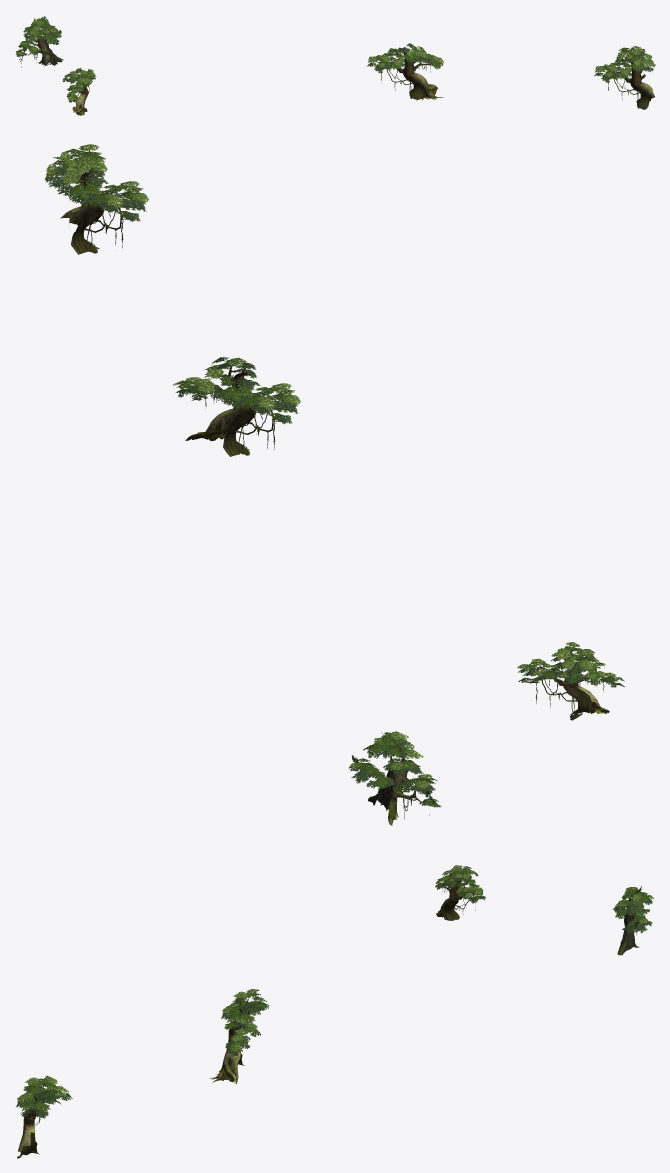
File: S_Tree_Green129_2.FBX
3 views of the same model, one above another, from view 1: azimuth 30°, elevation 25°; view 2: azimuth 150°, elevation 25°; view 3: azimuth 270°, elevation 25° (orthographic). The views are drawn at different scales.
Parts seen in each view (by area): view 1: S_Tree_Green129_001, S_Tree_Green132_001, S_Tree_Green130_001, S_Tree_Green129_002; view 2: S_Tree_Green129_001, S_Tree_Green132_001, S_Tree_Green130_001, S_Tree_Green129_002; view 3: S_Tree_Green129_001, S_Tree_Green132_001, S_Tree_Green129_002, S_Tree_Green130_001.
Part boxes in pixels (x1,y1,x2,y2): S_Tree_Green129_001: [367, 43, 443, 100]; S_Tree_Green132_001: [594, 46, 655, 109]; S_Tree_Green130_001: [15, 16, 63, 67]; S_Tree_Green129_002: [62, 68, 96, 115]; S_Tree_Green129_001: [173, 357, 300, 456]; S_Tree_Green132_001: [45, 144, 148, 254]; S_Tree_Green130_001: [349, 731, 441, 825]; S_Tree_Green129_002: [517, 642, 624, 720]; S_Tree_Green129_001: [209, 989, 269, 1084]; S_Tree_Green132_001: [16, 1075, 72, 1158]; S_Tree_Green129_002: [435, 865, 485, 920]; S_Tree_Green130_001: [613, 886, 654, 955].
Bounding box in the file's own units: 12263 × 11543 × 2331.
